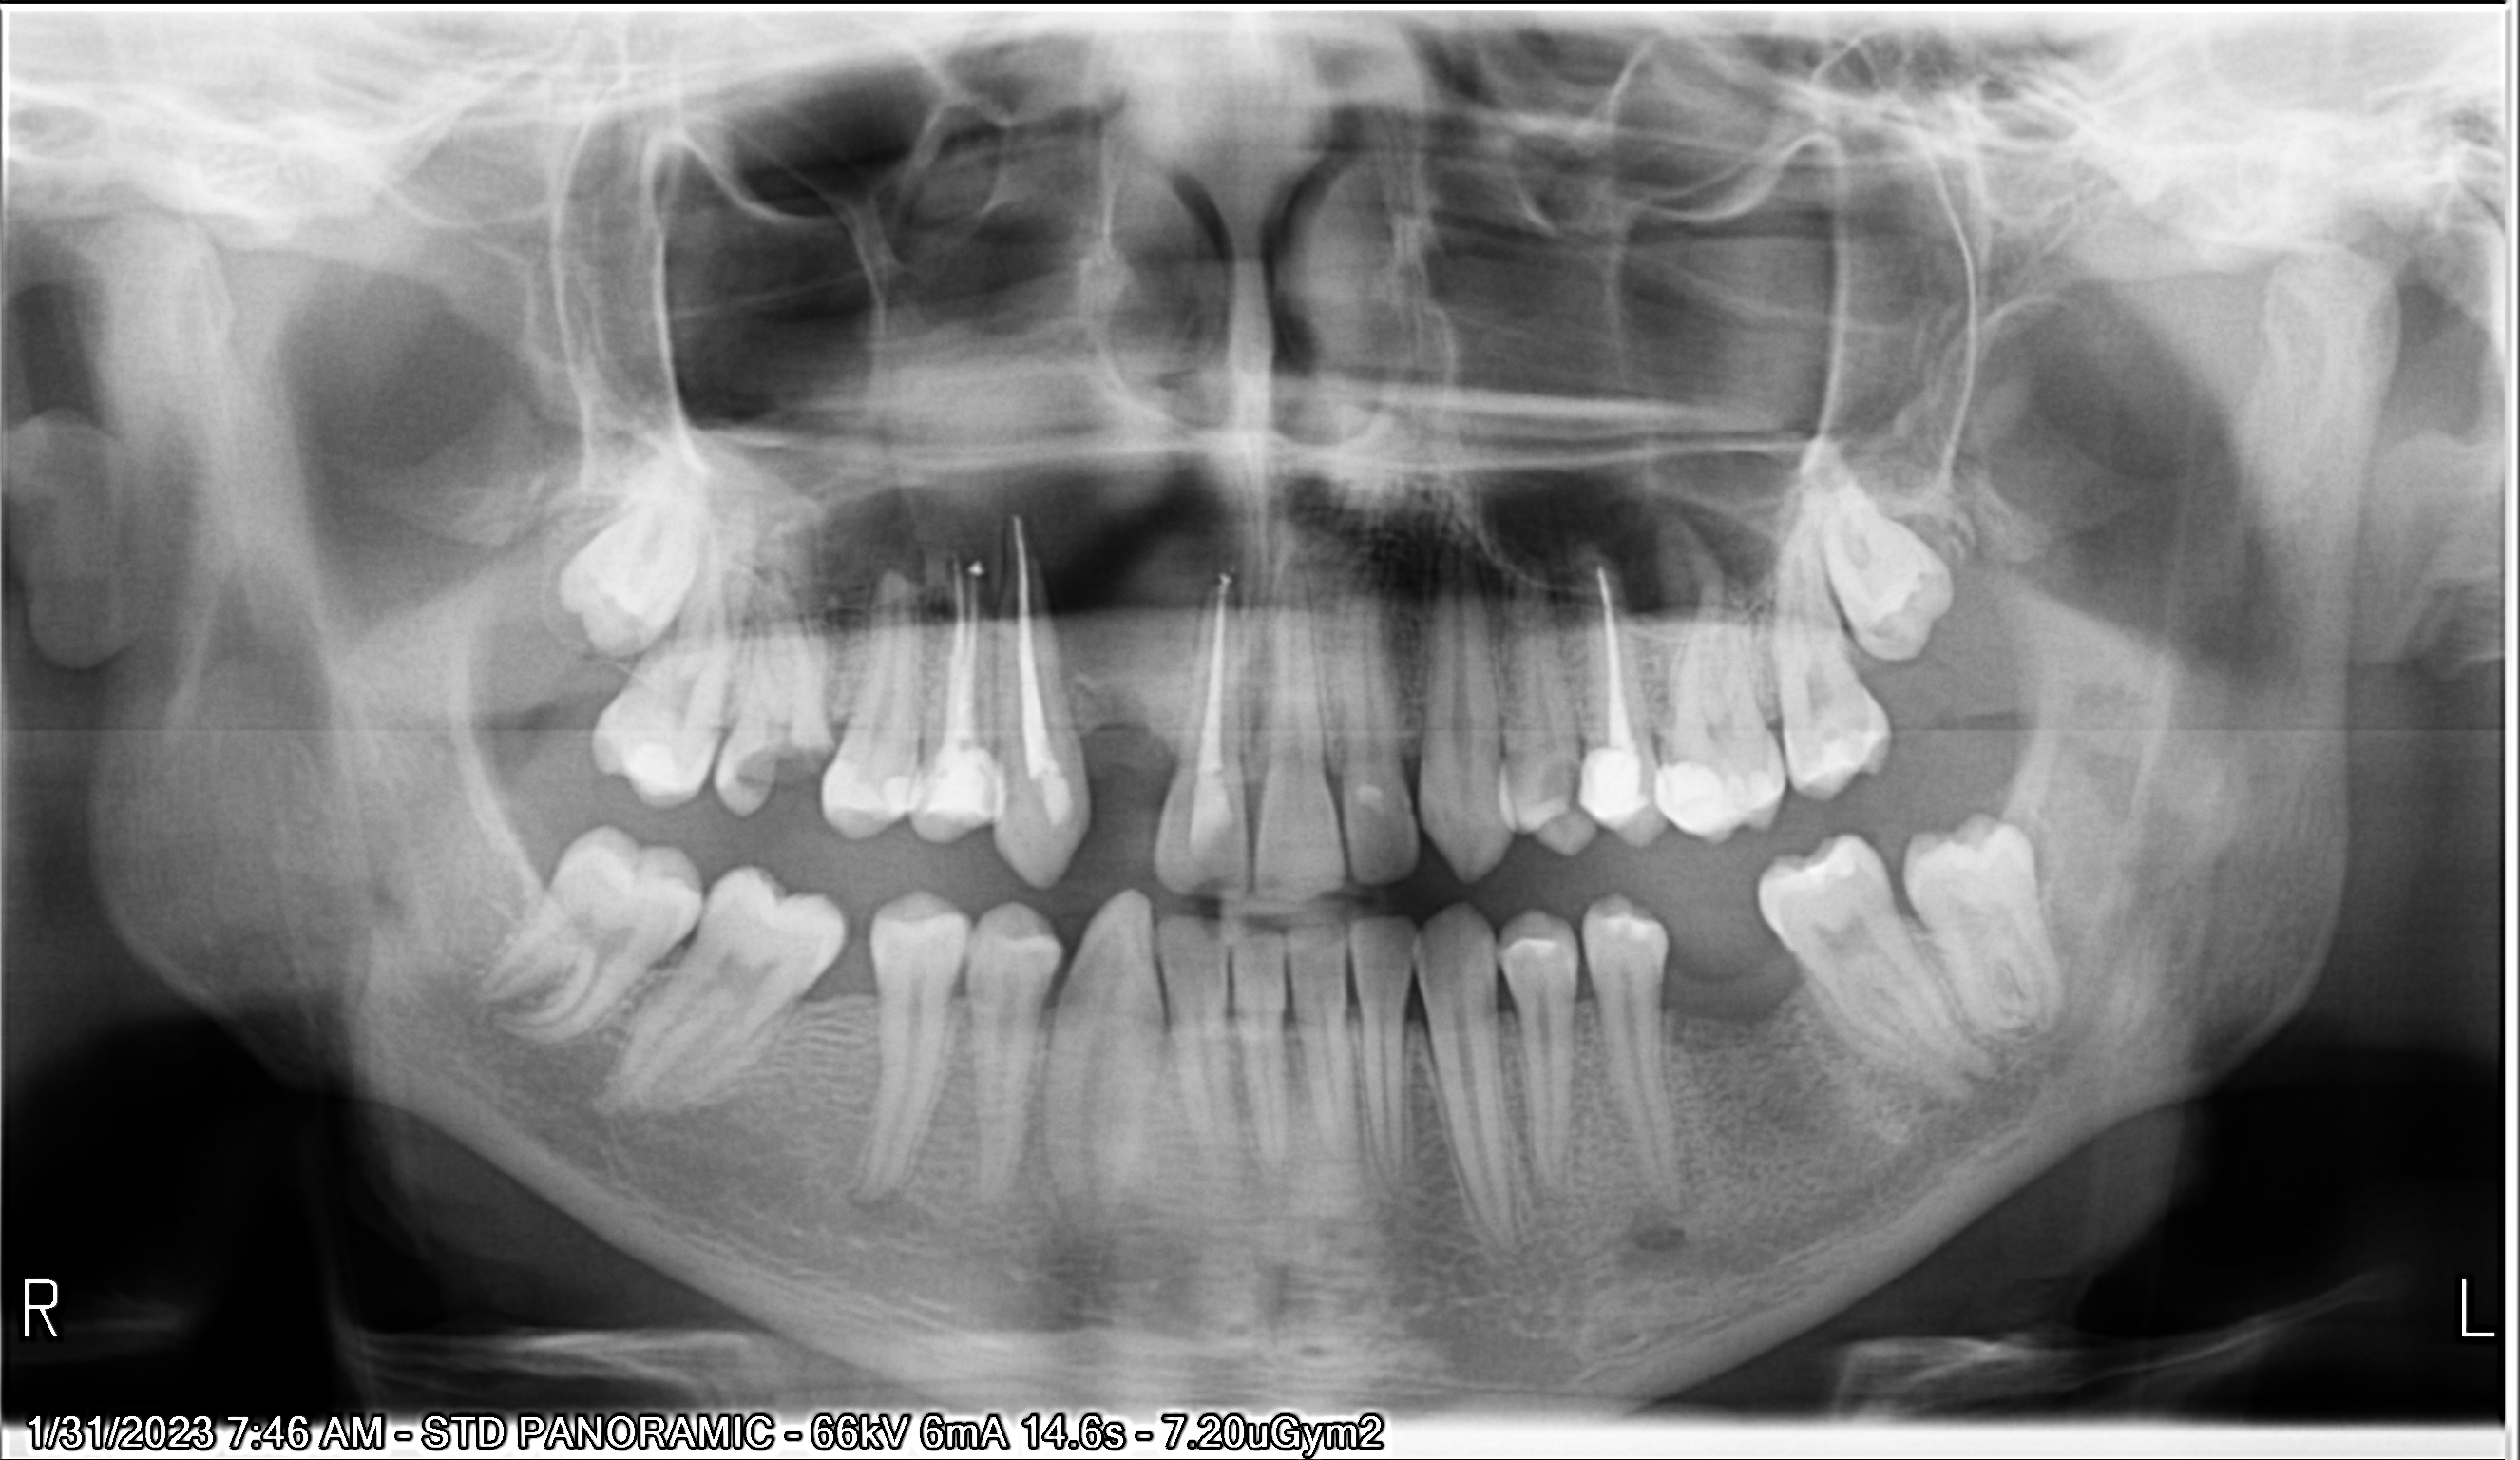CAR: (717, 318, 2322, 1178), (280, 295, 1145, 1118)
END: (754, 158, 2397, 918), (542, 163, 1789, 954), (469, 125, 1525, 883), (415, 170, 1421, 912)
IMT: (856, 250, 2520, 1311), (799, 83, 2520, 770), (132, 143, 887, 822)
OBT: (752, 417, 2412, 1378), (853, 375, 2520, 1283), (759, 306, 2520, 1163), (736, 323, 2391, 1161), (872, 318, 2520, 1102), (629, 353, 2029, 1191), (556, 334, 1794, 1203), (474, 344, 1554, 1191), (403, 315, 1407, 1170), (405, 355, 1337, 1170), (370, 342, 1257, 1159), (273, 316, 976, 1126)
